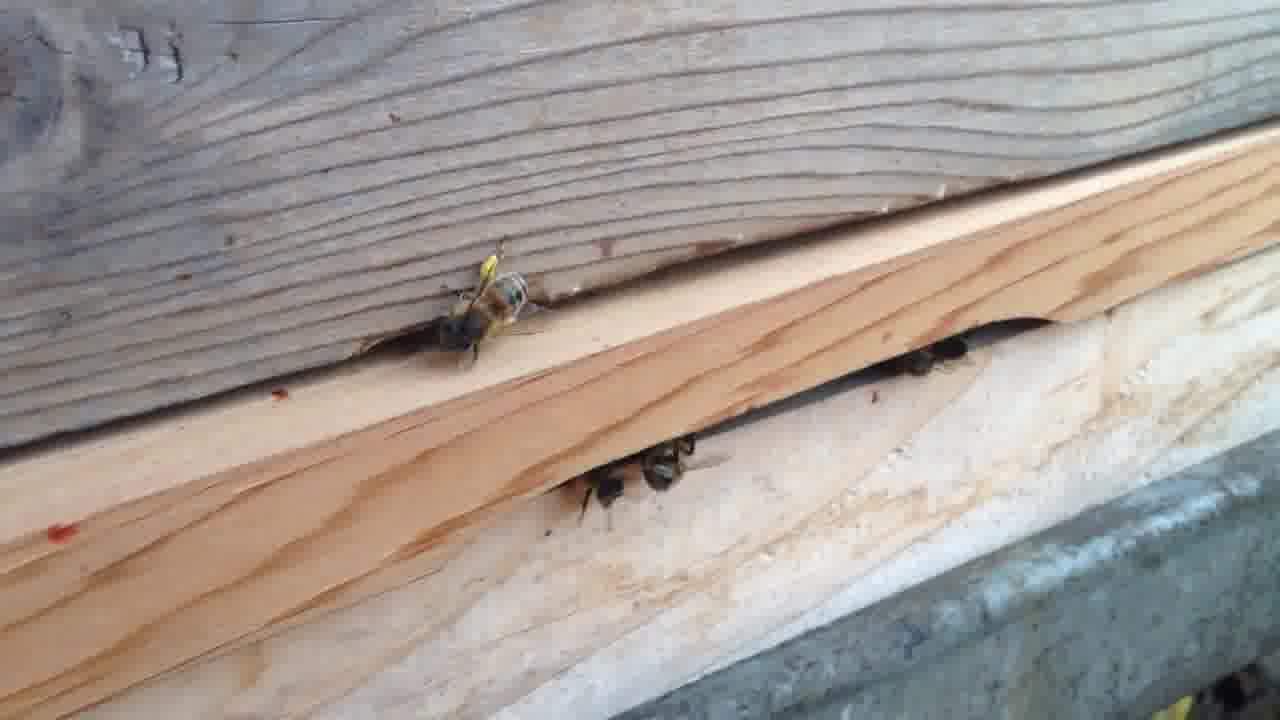pollen: (425, 248, 533, 366)
